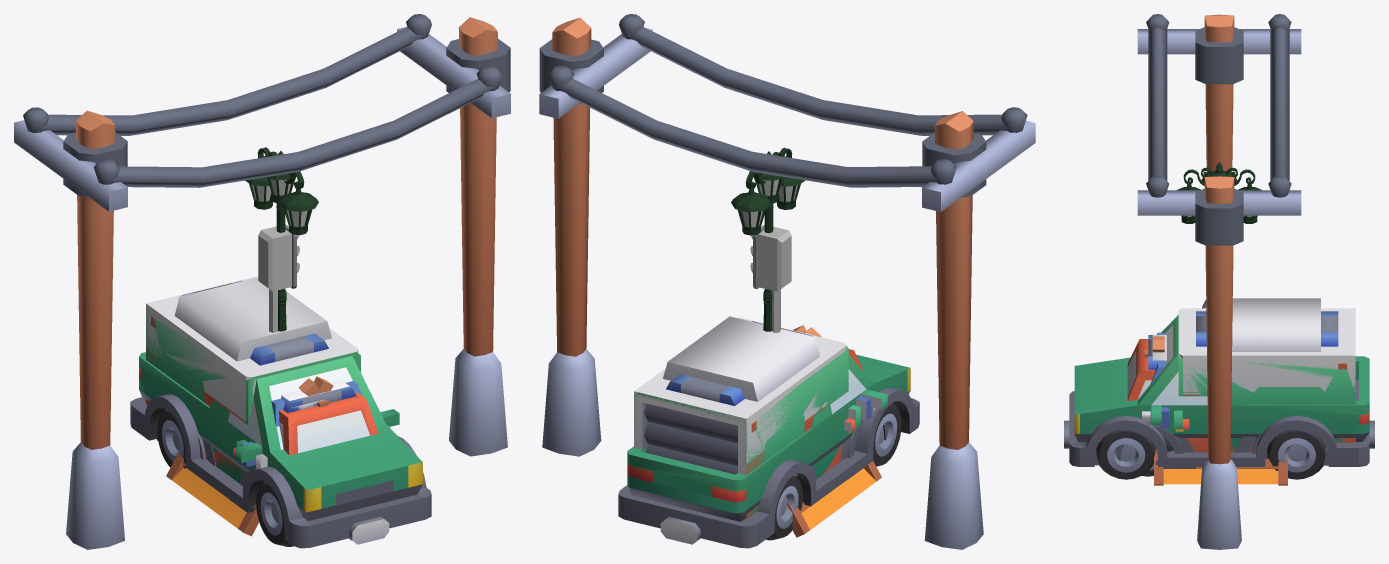
The model's file is kit.glb.
3 renders of one model, left to right at view 1: azimuth 30°, elevation 25°; view 2: azimuth 150°, elevation 25°; view 3: azimuth 270°, elevation 25°, orthographic. The views are drawn at different scales.
Visible parts, largest first — view 1: electricity-pole, body (×4), Streetlight_Double, TrafficLight, tent-canvas, wheel-front-right, wheel-back-right, Streetlight_Single; view 2: electricity-pole, body (×4), door, Streetlight_Double, TrafficLight, tent-canvas, wheel-front-right, wheel-back-right, Streetlight_Single; view 3: body (×5), electricity-pole, wheel-front-left, wheel-back-left, tent-canvas, Streetlight_Double.
Part boxes in pixels (left/top/right/bottom): electricity-pole: left=14, top=14, right=510, bottom=549; body (×4): left=130, top=276, right=431, bottom=548; Streetlight_Double: left=245, top=147, right=318, bottom=331; TrafficLight: left=258, top=224, right=299, bottom=332; tent-canvas: left=166, top=376, right=333, bottom=536; wheel-front-right: left=256, top=482, right=293, bottom=546; wheel-back-right: left=157, top=409, right=185, bottom=468; Streetlight_Single: left=266, top=151, right=300, bottom=308; electricity-pole: left=539, top=14, right=1035, bottom=549; body (×4): left=618, top=316, right=919, bottom=548; door: left=644, top=403, right=737, bottom=474; Streetlight_Double: left=731, top=147, right=805, bottom=331; TrafficLight: left=750, top=225, right=791, bottom=332; tent-canvas: left=787, top=325, right=881, bottom=537; wheel-front-right: left=873, top=403, right=901, bottom=466; wheel-back-right: left=766, top=475, right=802, bottom=540; Streetlight_Single: left=749, top=151, right=784, bottom=308; body (×5): left=1064, top=298, right=1374, bottom=468; electricity-pole: left=1137, top=14, right=1301, bottom=549; wheel-front-left: left=1096, top=429, right=1155, bottom=479; wheel-back-left: left=1267, top=429, right=1326, bottom=479; tent-canvas: left=1144, top=336, right=1287, bottom=485; Streetlight_Double: left=1176, top=167, right=1262, bottom=223.
Bounding box in the file's own units: 8.82 × 8 × 6.2.
Materials: 24 (3 with a texture image).
